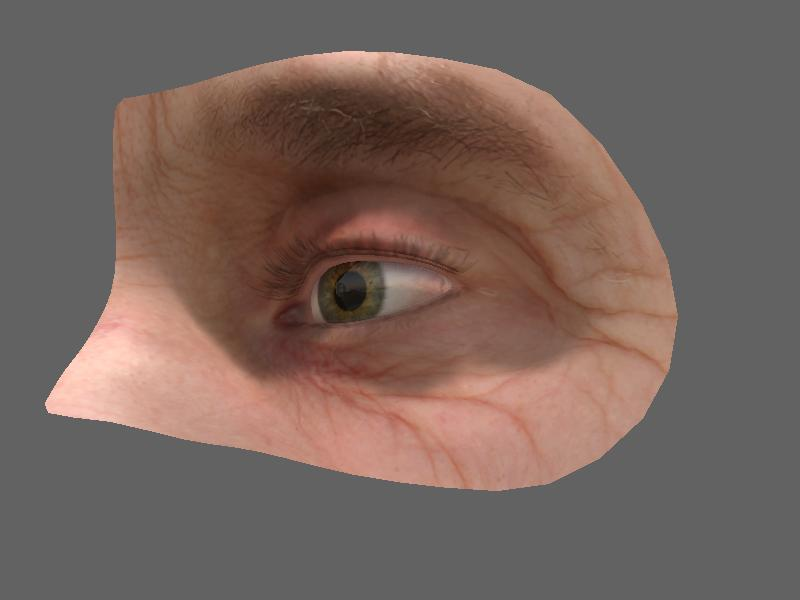iris: (316, 261, 398, 318)
